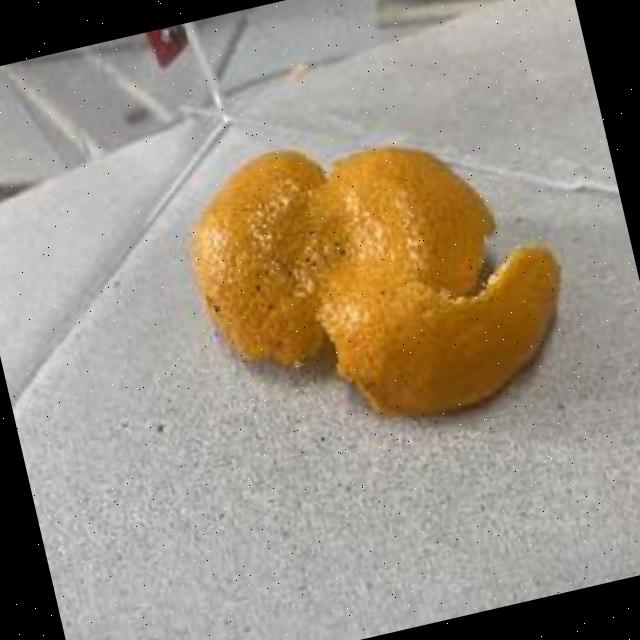orange-peel: (170, 90, 588, 463), (170, 138, 367, 384)
